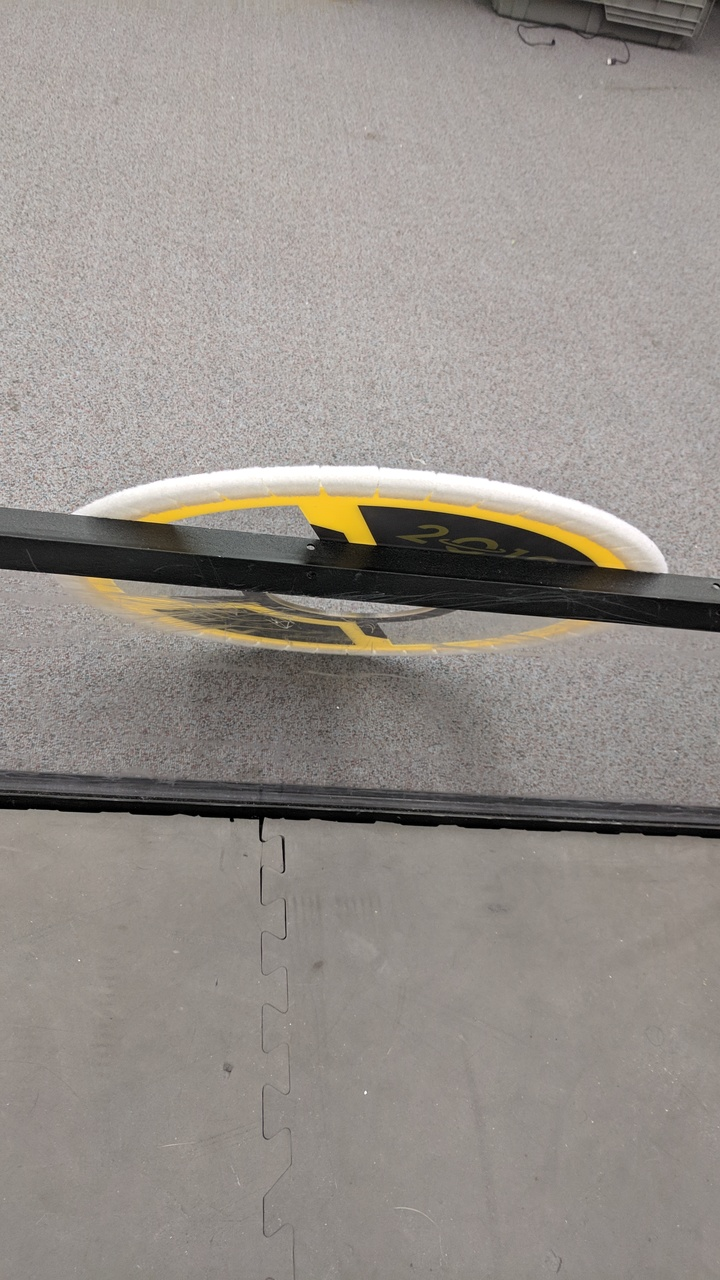hatch_panel: (54, 466, 686, 676)
